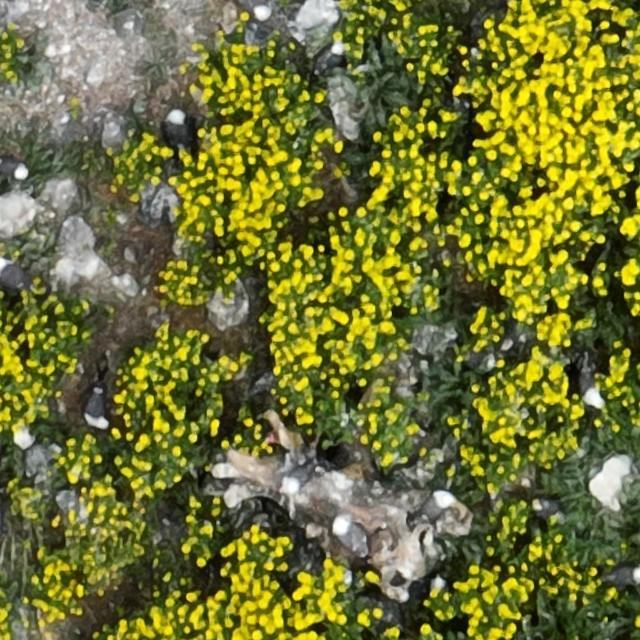umineko: (283, 462, 319, 494), (335, 522, 367, 556), (581, 360, 601, 405), (421, 491, 453, 519), (85, 386, 107, 426), (317, 44, 343, 71), (604, 566, 639, 586), (165, 110, 185, 145), (1, 260, 25, 286), (0, 158, 28, 177)
